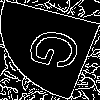G: (25, 25, 95, 77)
